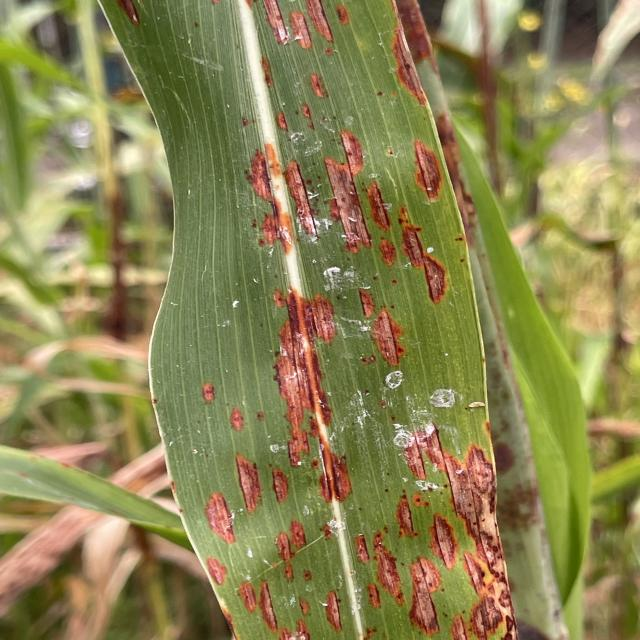millet_rust: (94, 0, 519, 640)
